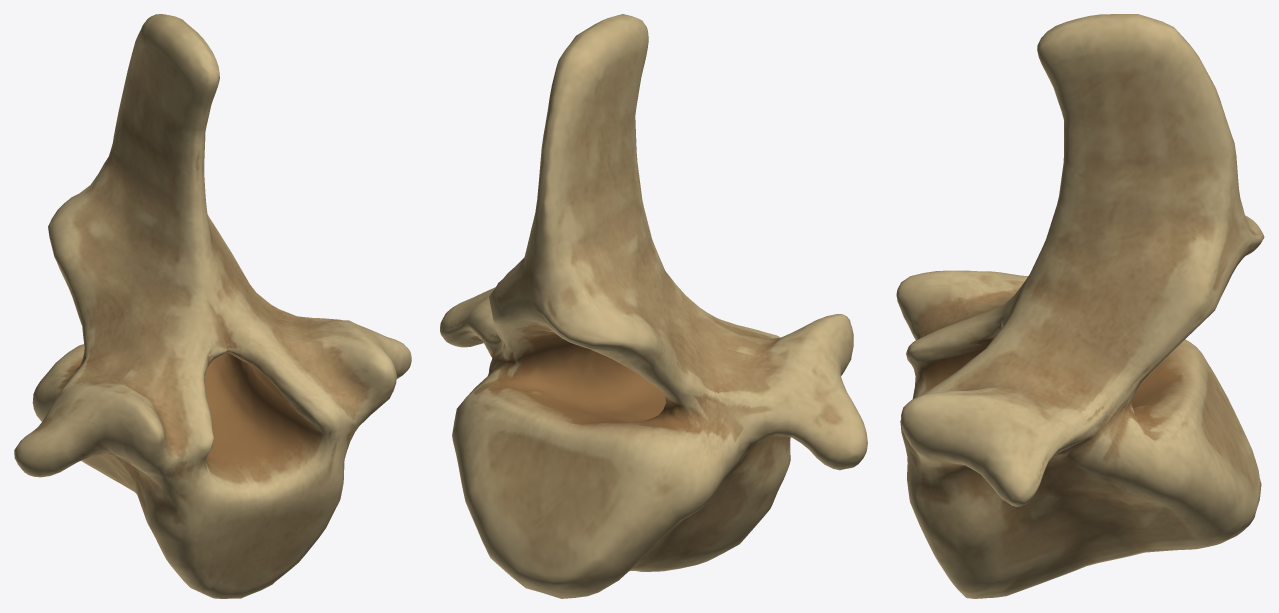
3 renders of one model, left to right at view 1: azimuth 30°, elevation 25°; view 2: azimuth 150°, elevation 25°; view 3: azimuth 270°, elevation 25°, orthographic. The views are drawn at different scales.
Parts seen in each view (by area): view 1: Group24125.001; view 2: Group24125.001; view 3: Group24125.001.
Part boxes in pixels (left/top/right/bottom): Group24125.001: left=14, top=14, right=411, bottom=598; Group24125.001: left=440, top=14, right=867, bottom=598; Group24125.001: left=896, top=14, right=1264, bottom=598.
Bounding box in the file's own units: 56.28 × 73.09 × 42.24.
1 material, 1 textured.
